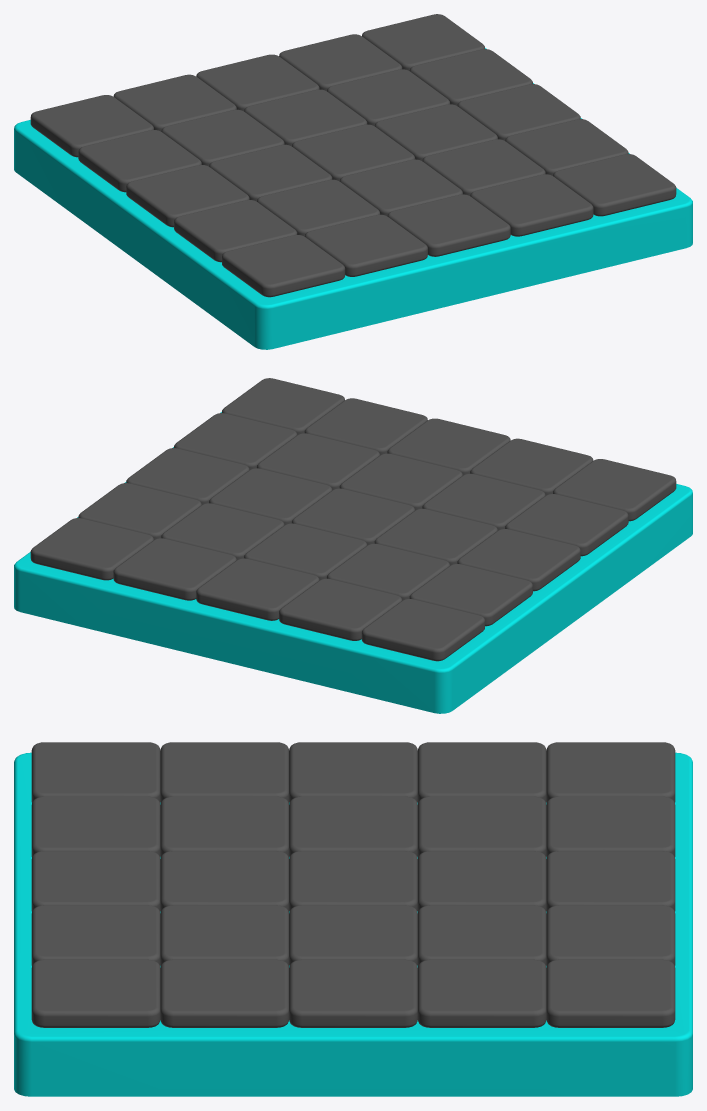
File: Gid5x5.fbx
3 renders of one model, top to bottom at view 1: azimuth 30°, elevation 25°; view 2: azimuth 150°, elevation 25°; view 3: azimuth 270°, elevation 25°, orthographic. The views are drawn at different scales.
Visible parts, largest first — view 1: GridStand, f45, f24, f17, f31, f38, f49, f48, f46, f47, f25, f28 (+14 smaller); view 2: GridStand, f49, f28, f21, f35, f42, f45, f46, f48, f47, f20, f24 (+14 smaller); view 3: GridStand, f17, f21, f18, f20, f19, f45, f49, f24, f28, f38, f42 (+14 smaller).
Boxes of the visible parts, left/top/right/bottom form: GridStand: left=14, top=48, right=692, bottom=349; f45: left=222, top=234, right=345, bottom=297; f24: left=470, top=174, right=593, bottom=236; f17: left=553, top=154, right=676, bottom=216; f31: left=387, top=194, right=510, bottom=256; f38: left=304, top=214, right=427, bottom=276; f49: left=30, top=95, right=153, bottom=157; f48: left=78, top=130, right=201, bottom=192; f46: left=174, top=200, right=297, bottom=262; f47: left=126, top=165, right=249, bottom=227; f25: left=422, top=139, right=545, bottom=195; f28: left=279, top=34, right=402, bottom=91; GridStand: left=14, top=412, right=692, bottom=713; f49: left=361, top=599, right=484, bottom=661; f28: left=113, top=538, right=236, bottom=600; f21: left=30, top=518, right=153, bottom=580; f35: left=196, top=558, right=319, bottom=620; f42: left=279, top=578, right=402, bottom=640; f45: left=553, top=459, right=676, bottom=521; f46: left=505, top=494, right=628, bottom=556; f48: left=409, top=564, right=532, bottom=626; f47: left=457, top=529, right=580, bottom=591; f20: left=78, top=483, right=201, bottom=539; f24: left=304, top=398, right=427, bottom=455; GridStand: left=14, top=752, right=692, bottom=1096; f17: left=31, top=959, right=160, bottom=1027; f21: left=546, top=959, right=675, bottom=1027; f18: left=160, top=959, right=288, bottom=1027; f20: left=418, top=959, right=546, bottom=1027; f19: left=289, top=959, right=417, bottom=1027; f45: left=31, top=742, right=160, bottom=802; f49: left=546, top=742, right=675, bottom=802; f24: left=31, top=905, right=160, bottom=965; f28: left=546, top=905, right=675, bottom=965; f38: left=31, top=796, right=160, bottom=857; f42: left=546, top=796, right=675, bottom=857.
Size of the model in its own units: 18.12 by 2.26 by 18.12.
